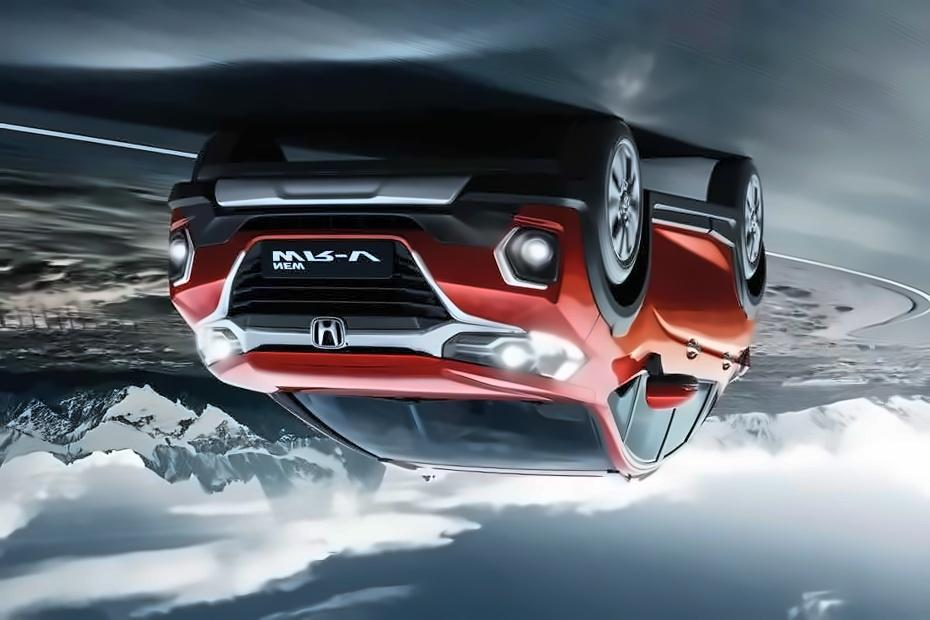Car hood: (203, 347, 606, 407)
Driver-s door - -F-R-: (603, 161, 732, 489)
Fender - -F-R-: (559, 179, 673, 430)
Front bumper: (140, 158, 594, 260)
Headlight - -L-: (196, 323, 249, 374)
Headlight - -R-: (442, 324, 589, 385)
Passenger-s door - -R-R-: (642, 198, 745, 493)
Side bumper - -R-: (638, 176, 747, 257)
Side mirror - -R-: (623, 372, 700, 414)
